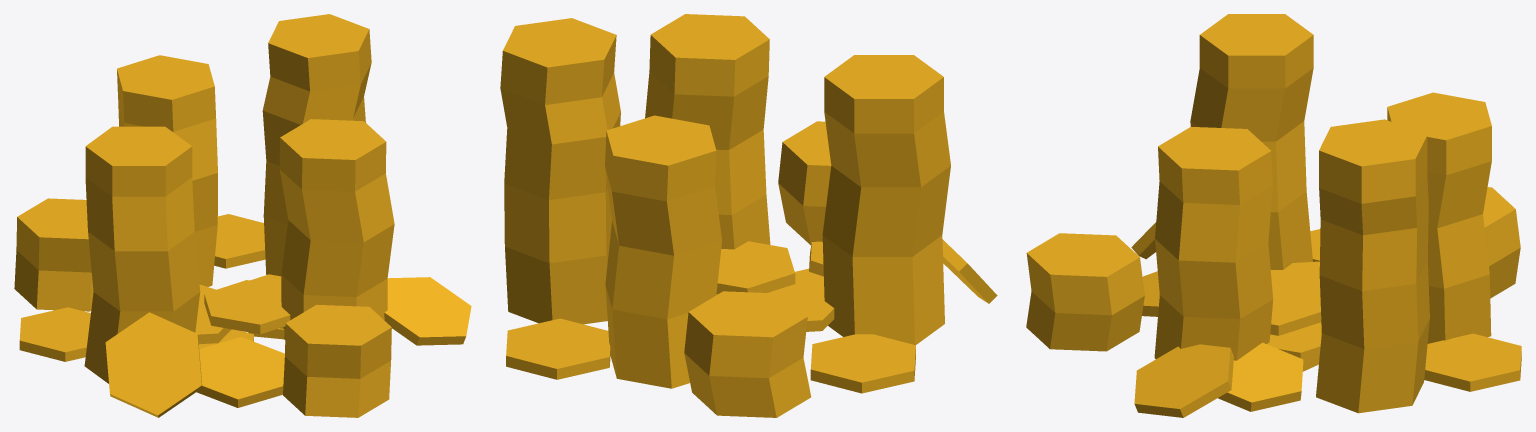
Rendered from gold1.glb.
3 renders of one model, left to right at view 1: azimuth 30°, elevation 25°; view 2: azimuth 150°, elevation 25°; view 3: azimuth 270°, elevation 25°, orthographic. The views are drawn at different scales.
Visible parts, largest first — view 1: Gold_Coin_Stack_2; view 2: Gold_Coin_Stack_2; view 3: Gold_Coin_Stack_2.
Boxes of the visible parts, box(x1,y1,x2,y2) form: Gold_Coin_Stack_2: box(14, 14, 471, 417); Gold_Coin_Stack_2: box(500, 14, 997, 417); Gold_Coin_Stack_2: box(1026, 14, 1521, 417).
Size of the model in its own units: 0.4002 by 0.2473 by 0.4352.
Materials: 1 (1 with a texture image).
